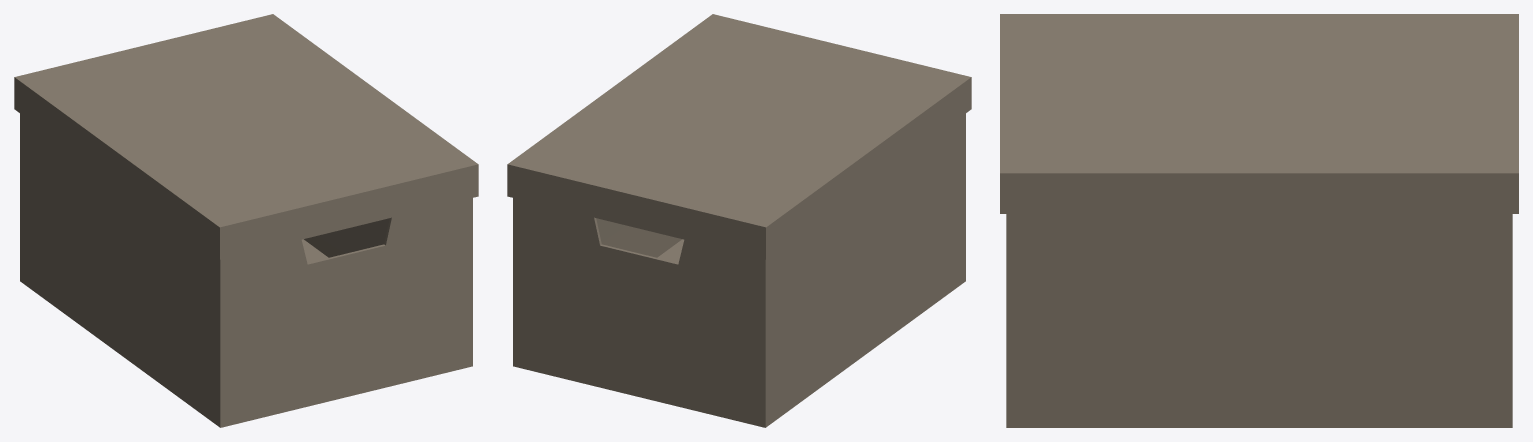
File: kutu.fbx
The picture shows the model from 3 angles, left to right: view 1: azimuth 30°, elevation 25°; view 2: azimuth 150°, elevation 25°; view 3: azimuth 270°, elevation 25°; orthographic projection. The views are drawn at different scales.
Parts seen in each view (by area): view 1: storage_box_01; view 2: storage_box_01; view 3: storage_box_01.
Part boxes in pixels (bbox=[...]): storage_box_01: bbox=[14, 14, 478, 427]; storage_box_01: bbox=[507, 14, 971, 427]; storage_box_01: bbox=[1000, 14, 1518, 427].
Bounding box in the file's own units: 25.44 × 19.08 × 34.97.
